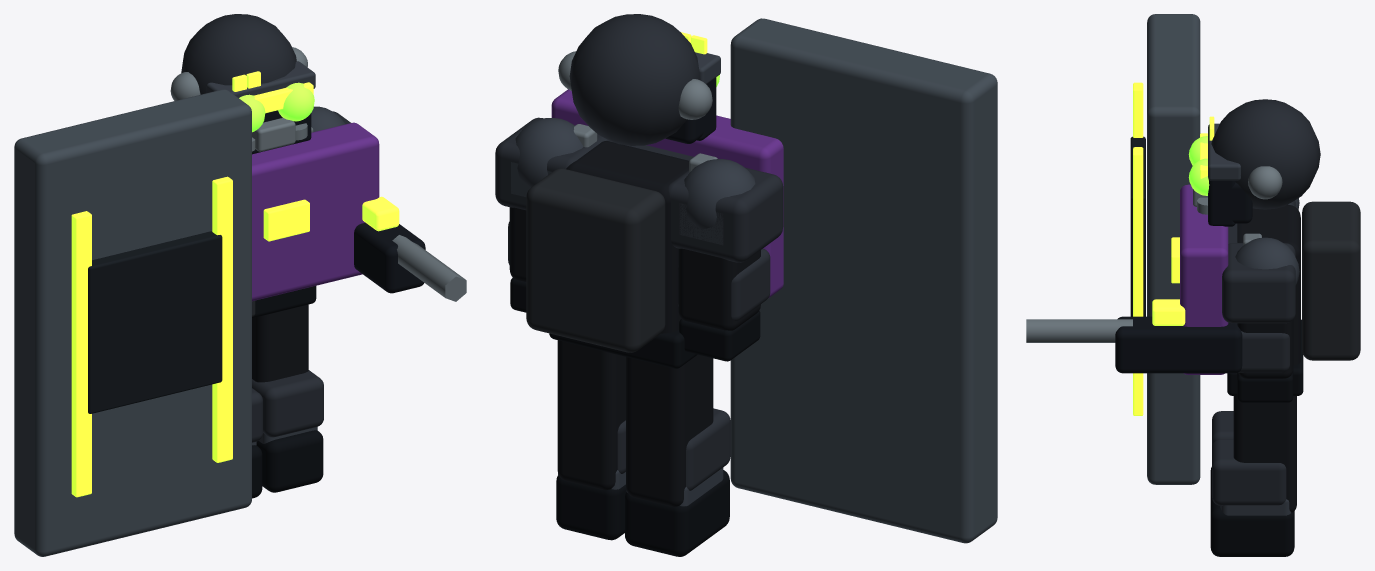
Rendered from guardian_l02.glb.
3 views of the same model, side by side, from view 1: azimuth 30°, elevation 25°; view 2: azimuth 150°, elevation 25°; view 3: azimuth 270°, elevation 25° (orthographic). The views are drawn at different scales.
Parts seen in each view (by area): view 1: barrier_body, barrier_centre, heavy_chest, barrier_power_strip (×2), rounded_helmet, trouser, shaped_knee_guard, boot, heavy_carbine, heavy_barrel, guardian_rank, helmet_brow (+7 smaller); view 2: barrier_body, field_pack, trouser (×2), rounded_helmet, boot (×2), broad_shoulder_guard (×2), shoulder_joint (×2), sleeve (×2), body, heavy_chest, shaped_knee_guard, glove (+5 smaller); view 3: barrier_body, field_pack, rounded_helmet, heavy_carbine, heavy_chest, broad_shoulder_guard, trouser, shaped_knee_guard (×2), boot, barrier_power_strip (×2), body, heavy_barrel (+14 smaller).
Boxes of the visible parts, box(x1,y1,x2,y2) form: barrier_body: box(14, 89, 251, 556); barrier_centre: box(88, 231, 222, 413); heavy_chest: box(252, 122, 379, 301); barrier_power_strip (×2): box(71, 176, 232, 497); rounded_helmet: box(181, 14, 296, 94); trouser: box(252, 304, 308, 382); shaped_knee_guard: box(252, 370, 323, 437); boot: box(256, 430, 323, 492); heavy_carbine: box(354, 222, 425, 293); heavy_barrel: box(392, 235, 466, 301); guardian_rank: box(263, 199, 309, 241); helmet_brow: box(206, 61, 315, 97); barrier_body: box(730, 18, 997, 543); field_pack: box(526, 168, 665, 352); trouser (×2): box(557, 340, 713, 506); rounded_helmet: box(569, 14, 700, 145); boot (×2): box(556, 470, 729, 556); broad_shoulder_guard (×2): box(495, 117, 783, 262); shoulder_joint (×2): box(515, 118, 755, 229); sleeve (×2): box(509, 207, 760, 330); body: box(566, 141, 689, 333); heavy_chest: box(551, 89, 783, 298); shaped_knee_guard: box(686, 408, 730, 490); glove: box(679, 310, 760, 361); barrier_body: box(1147, 14, 1200, 484); field_pack: box(1302, 201, 1360, 360); rounded_helmet: box(1211, 99, 1320, 209); heavy_carbine: box(1115, 316, 1242, 373); heavy_chest: box(1180, 184, 1228, 374); broad_shoulder_guard: box(1222, 243, 1295, 323); trouser: box(1233, 396, 1296, 512); shaped_knee_guard (×2): box(1212, 411, 1286, 505); boot: box(1210, 494, 1294, 556); barrier_power_strip (×2): box(1133, 82, 1143, 415); body: box(1237, 204, 1300, 365); heavy_barrel: box(1026, 319, 1132, 342).
Size of the model in its own units: 1.6 by 1.86 by 1.31.
